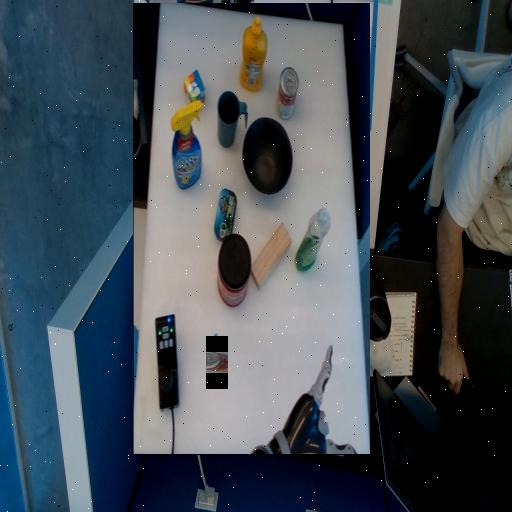bowl: (212, 275, 261, 324)
cleanser: (174, 200, 209, 234)
coffee_can: (253, 169, 286, 201)
jaco: (146, 1, 253, 110)
meat_can: (267, 216, 289, 268)
mug: (258, 309, 286, 363)
mustard_bottle: (239, 365, 263, 437)
rubik: (300, 353, 320, 387)
soup_can: (206, 352, 227, 372)
windex: (302, 268, 333, 355)
wooden_block: (213, 166, 253, 232)
workspace: (134, 3, 370, 454)
